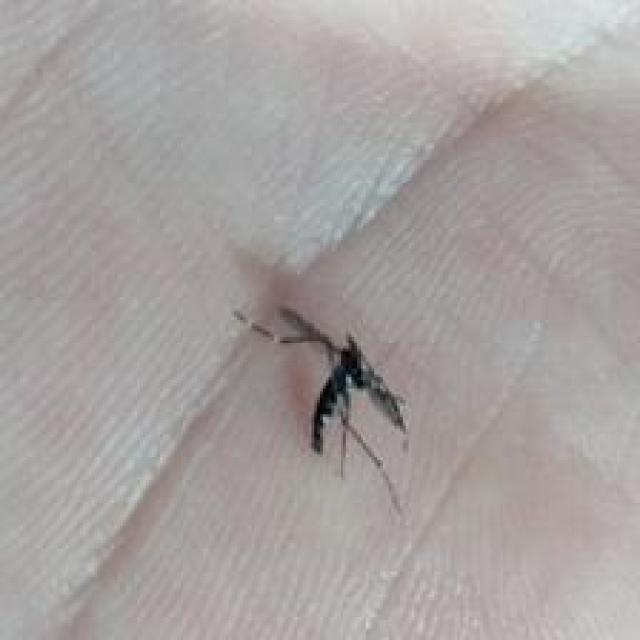Aedes albopictus: (232, 303, 412, 517)
